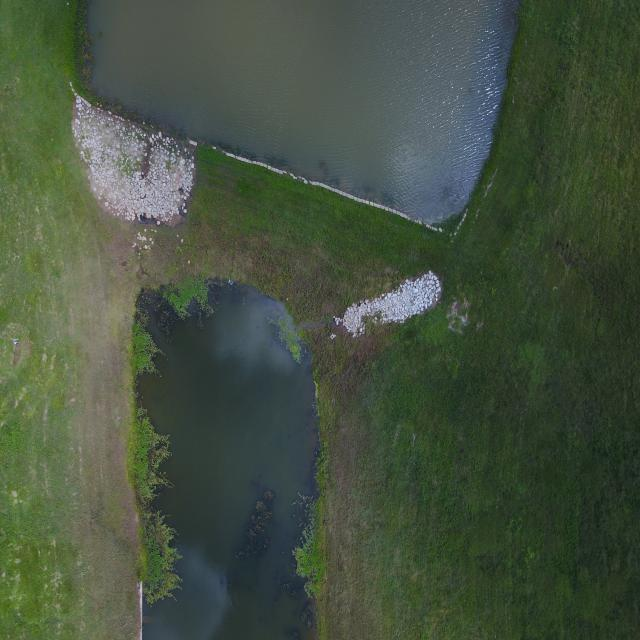fire: (87, 0, 520, 223), (137, 285, 318, 640)
